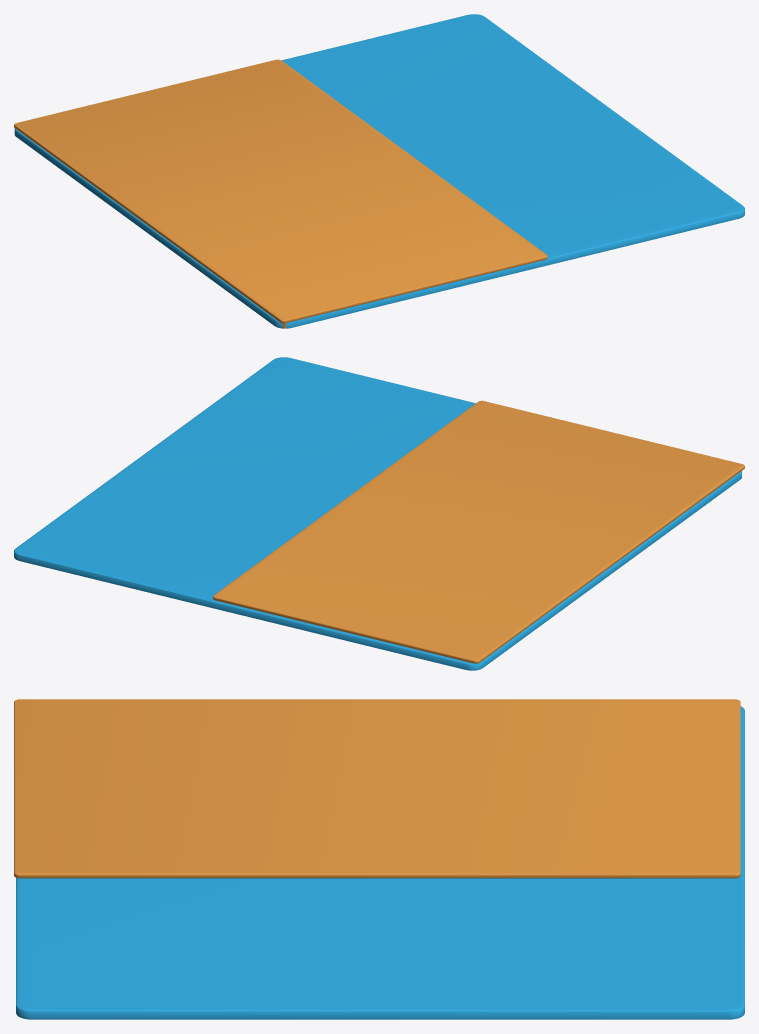
File: island_1.glb
The picture shows the model from 3 angles, top to bottom: view 1: azimuth 30°, elevation 25°; view 2: azimuth 150°, elevation 25°; view 3: azimuth 270°, elevation 25°; orthographic projection. The views are drawn at different scales.
Visible parts, largest first — view 1: Ground_Island_A, Sea_Island_A; view 2: Ground_Island_A, Sea_Island_A; view 3: Ground_Island_A, Sea_Island_A.
Part boxes in pixels (box(x1,y1,x2,y2)): Ground_Island_A: box(14, 59, 547, 328); Sea_Island_A: box(14, 14, 744, 328); Ground_Island_A: box(213, 400, 744, 663); Sea_Island_A: box(14, 357, 741, 670); Ground_Island_A: box(14, 699, 740, 878); Sea_Island_A: box(16, 706, 744, 1019).
Bounding box in the file's own units: 15 × 0.3 × 15.04.
